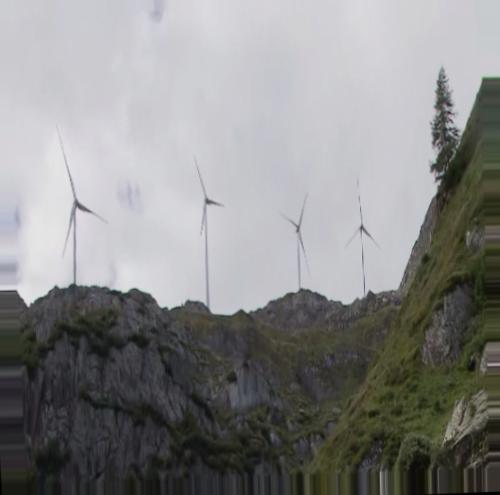wind turbine: (53, 121, 110, 284), (192, 153, 227, 311), (341, 176, 383, 297), (277, 192, 311, 289)
